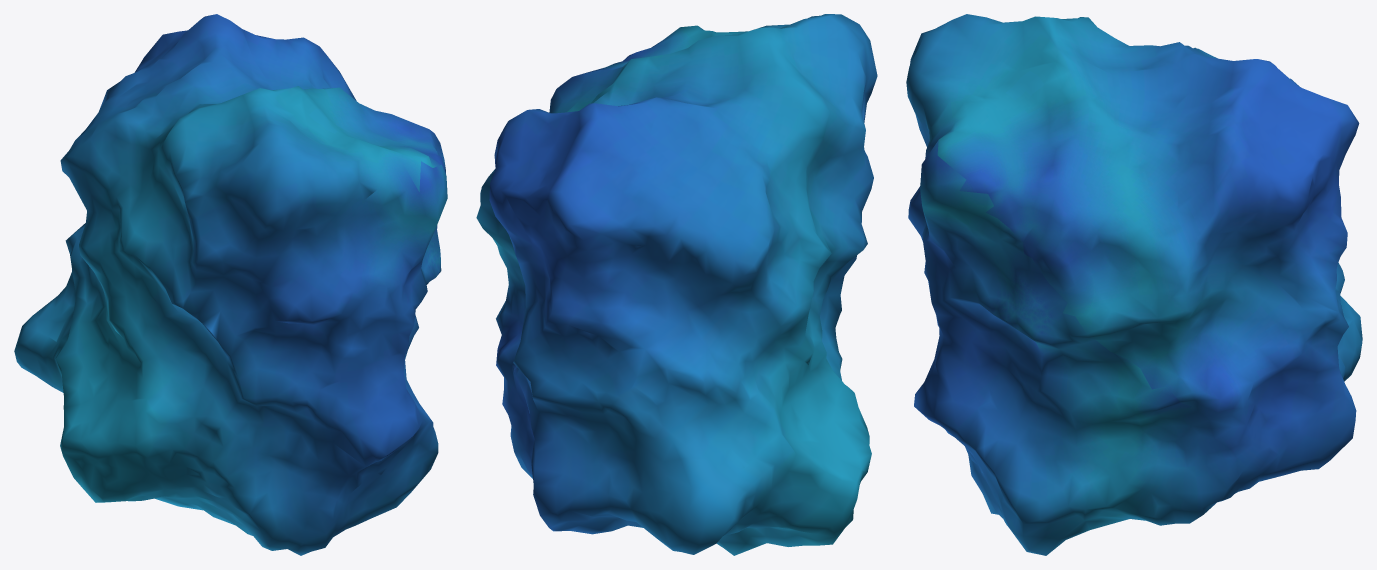
The model's file is Ice_Stone4.fbx.
3 renders of one model, left to right at view 1: azimuth 30°, elevation 25°; view 2: azimuth 150°, elevation 25°; view 3: azimuth 270°, elevation 25°, orthographic. The views are drawn at different scales.
Parts seen in each view (by area): view 1: rock.012; view 2: rock.012; view 3: rock.012.
Part boxes in pixels (bbox=[...]): rock.012: bbox=[14, 14, 447, 555]; rock.012: bbox=[476, 14, 877, 555]; rock.012: bbox=[906, 14, 1362, 555].
Size of the model in its own units: 284 by 364 by 307.
